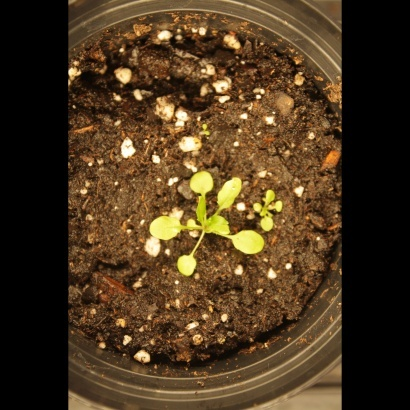leaf: (142, 211, 182, 246), (217, 168, 242, 214), (170, 251, 202, 282), (187, 164, 215, 199), (234, 229, 266, 258), (203, 214, 233, 240), (187, 194, 211, 221), (179, 216, 202, 239), (259, 214, 282, 237), (257, 180, 280, 203), (269, 199, 292, 222), (246, 195, 269, 218)
